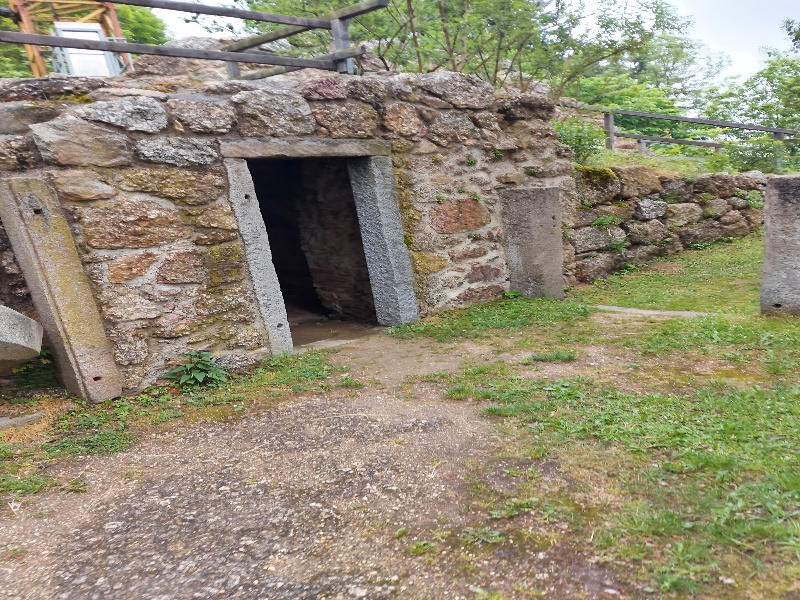door2: (203, 123, 442, 365)
